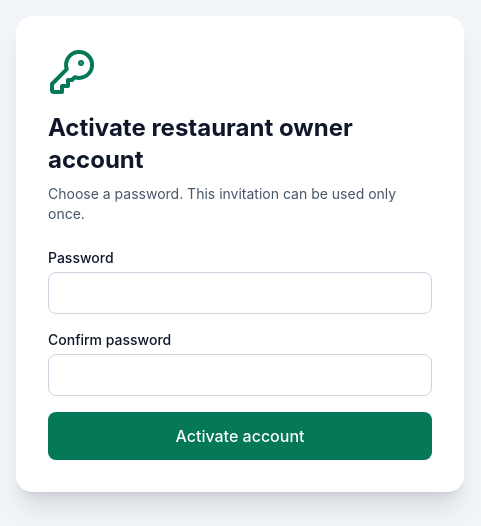
it: ActivationForm › sets the invited owner password and shows the login handoff
Type "Owner-password-123!" into the password field labelled "Password".
click(240, 293); type("Owner-password-123!")  # box [48, 272, 432, 314]
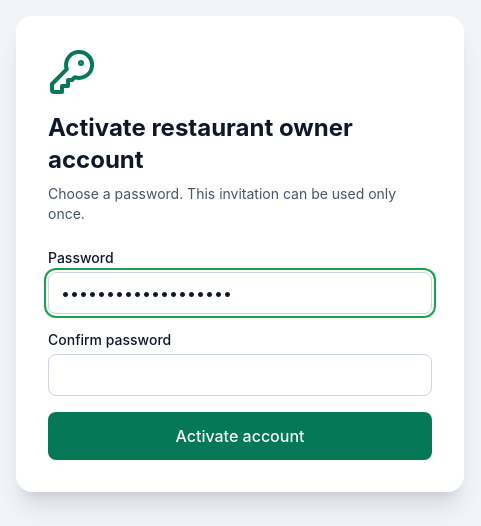
Type "Owner-password-123!" into the password field labelled "Confirm password".
click(240, 375); type("Owner-password-123!")  # box [48, 354, 432, 396]
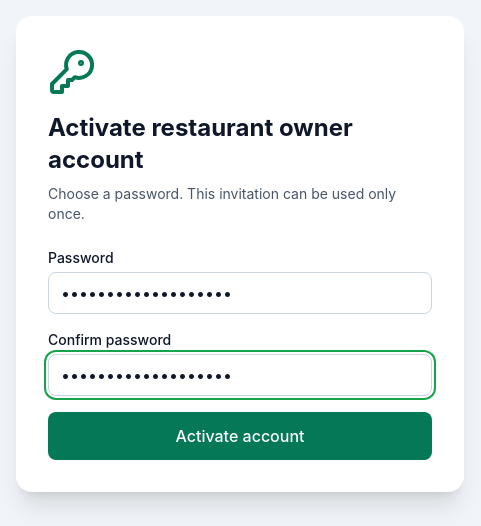
Click the button "Activate account".
click(240, 436)  # box [48, 412, 432, 460]
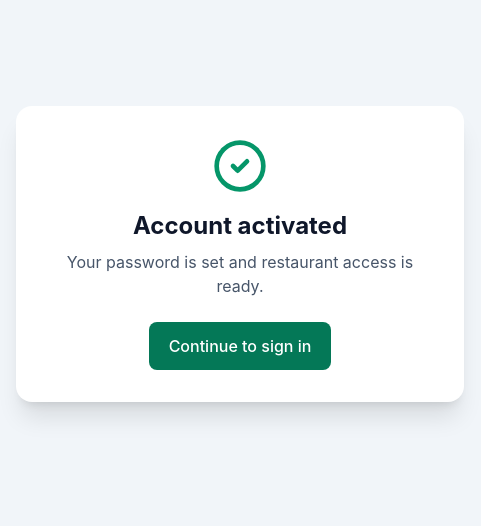
Expected: the heading "Account activated" is shown, [133, 211, 347, 240]
